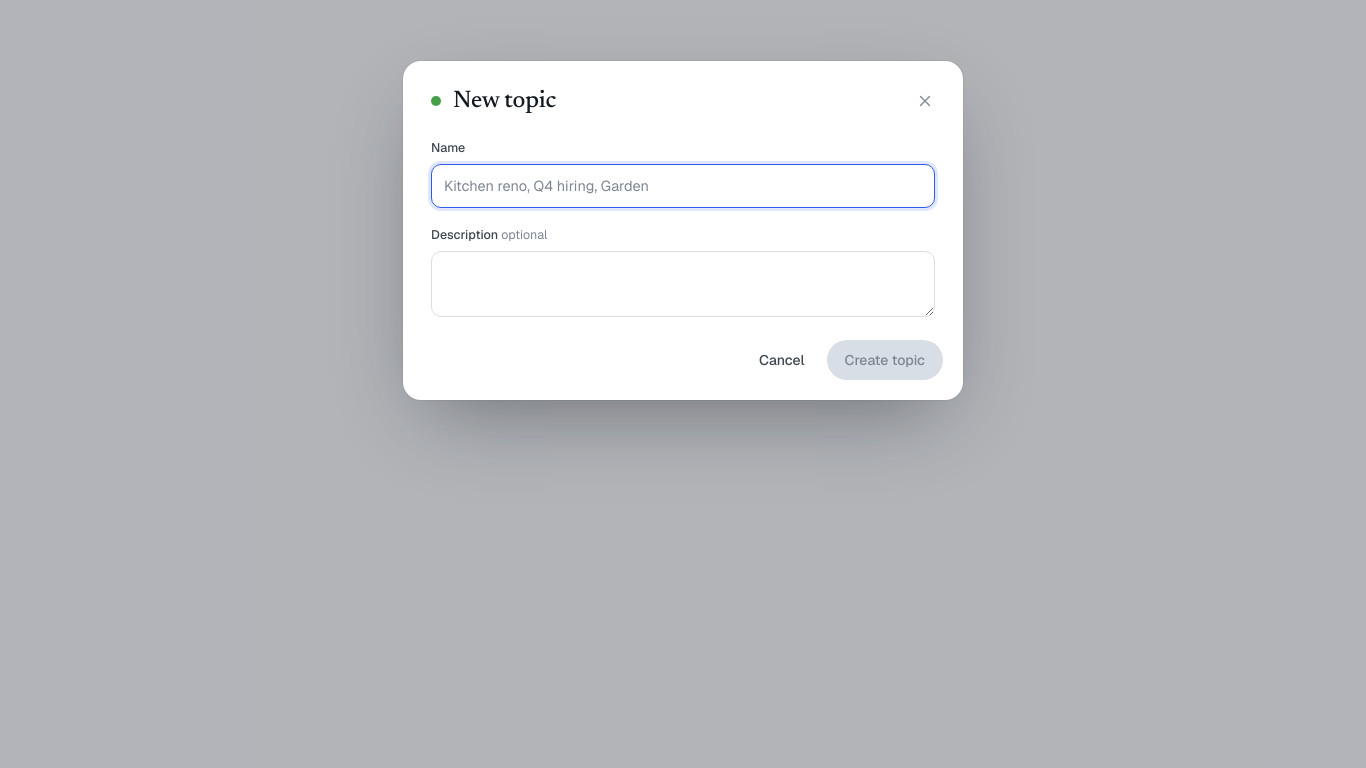
Test: NewTopicDialog › shows any other failure as a form error
In the field labelled "Name": (683, 186) top-left (431, 164), bottom-right (935, 208), type "Garden"
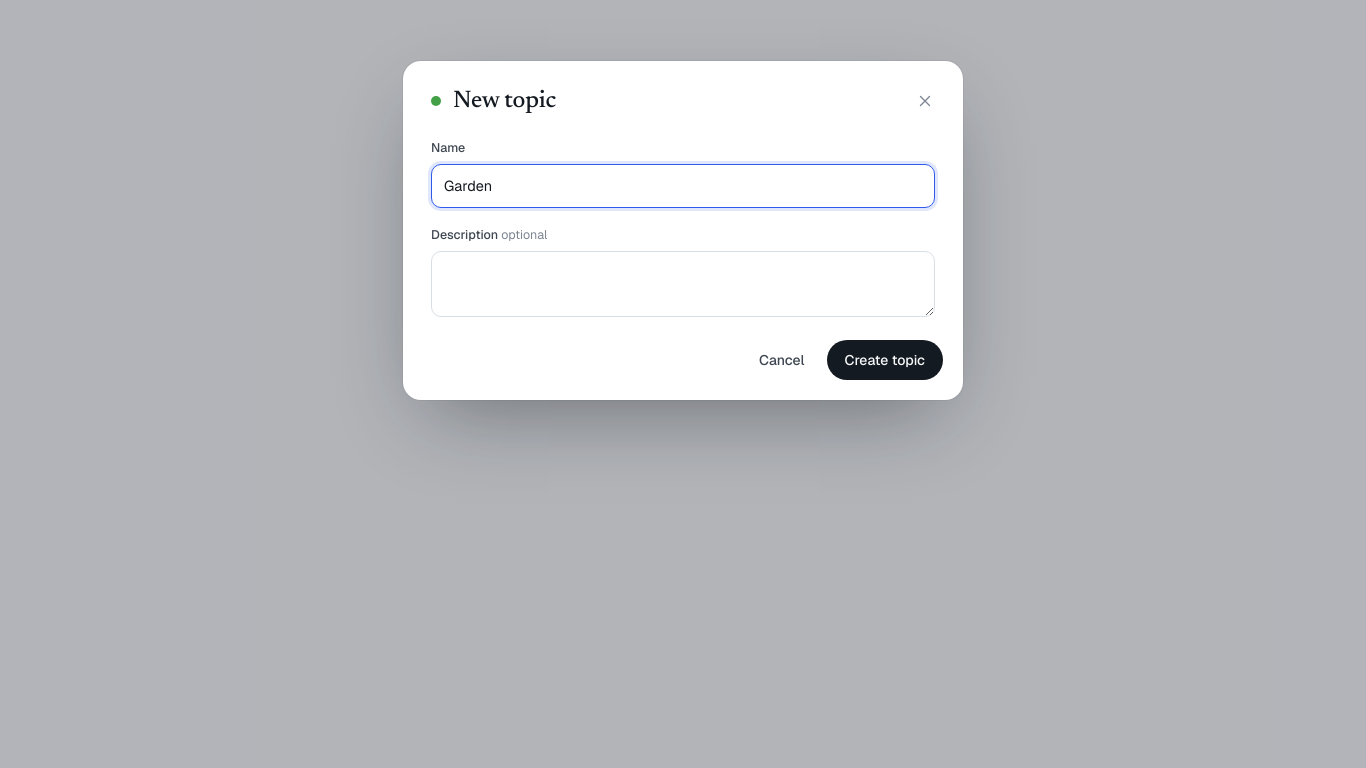
Click the button "Create topic": (885, 360) top-left (826, 340), bottom-right (943, 380)
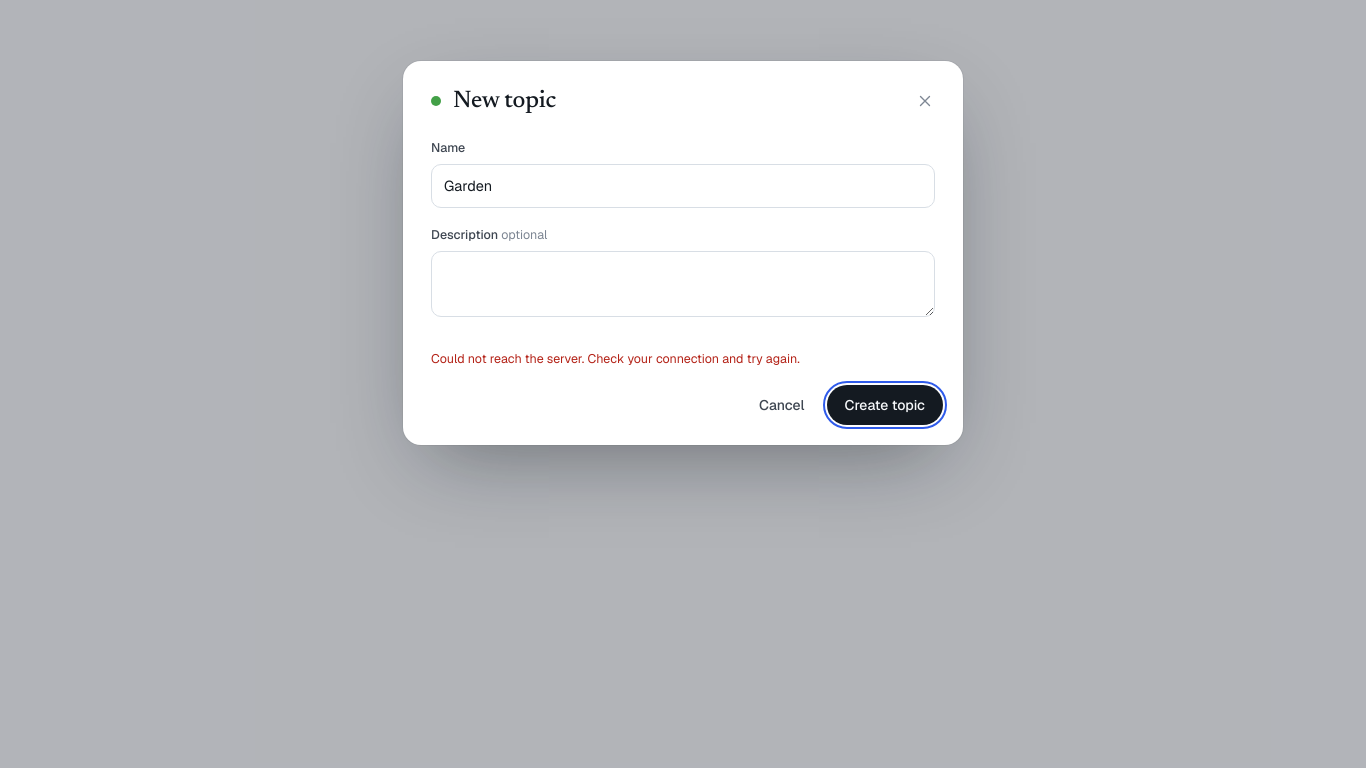
Expected: the text "Could not reach the server. Check your connection and try again." is shown, top-left (431, 350), bottom-right (800, 367)
